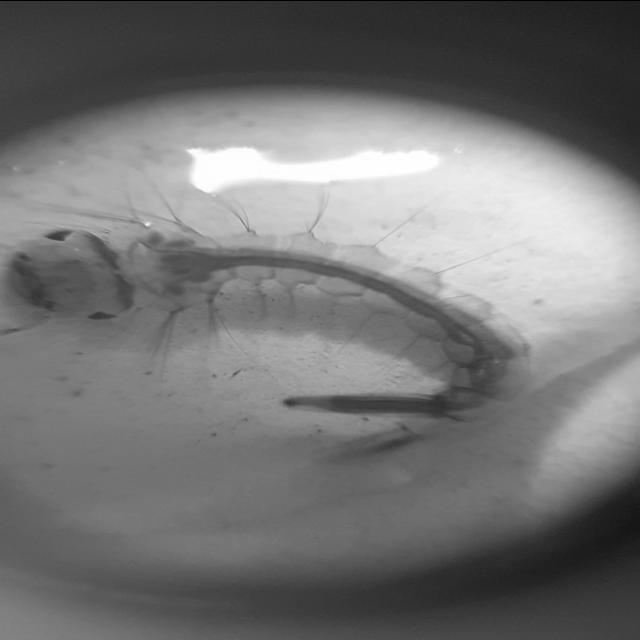larvas: (13, 207, 525, 428)
